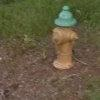Hydrant: (46, 2, 84, 74)
